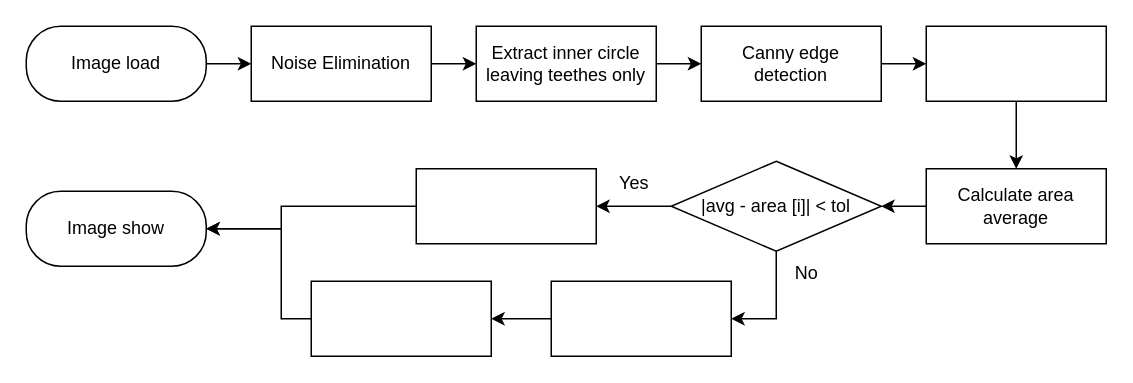
This 1133x383 diagram has some shape labels left out. Each missing label, with the centre of its shape:
"Draw teeth and show area in green" goes at [505,205].
"Draw teeth and show area in red" goes at [640,318].
"Encircle the teeth in src image" goes at [400,318].
"Find contours" goes at [1015,63].
